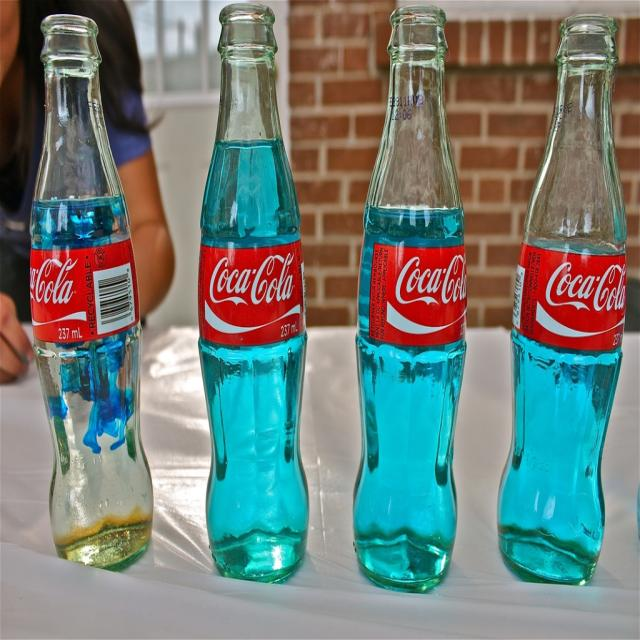cocacola: (205, 249, 300, 313), (544, 261, 627, 319), (393, 252, 467, 313), (31, 256, 81, 309)
